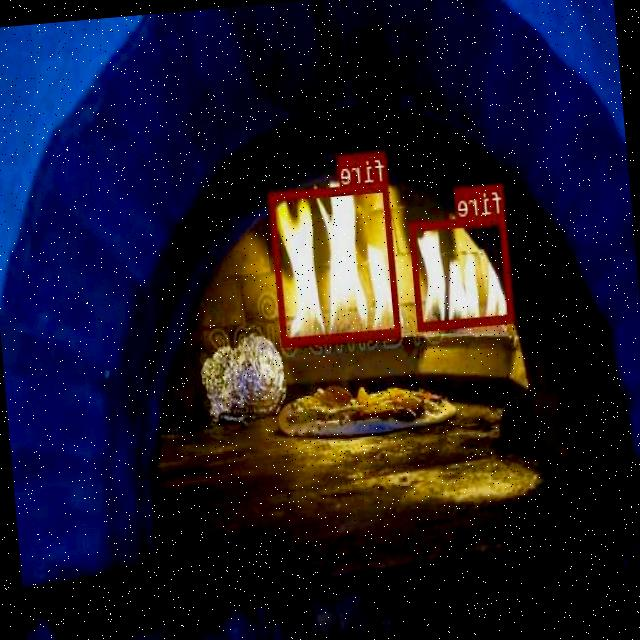fire: (269, 181, 402, 344), (410, 213, 516, 329)
